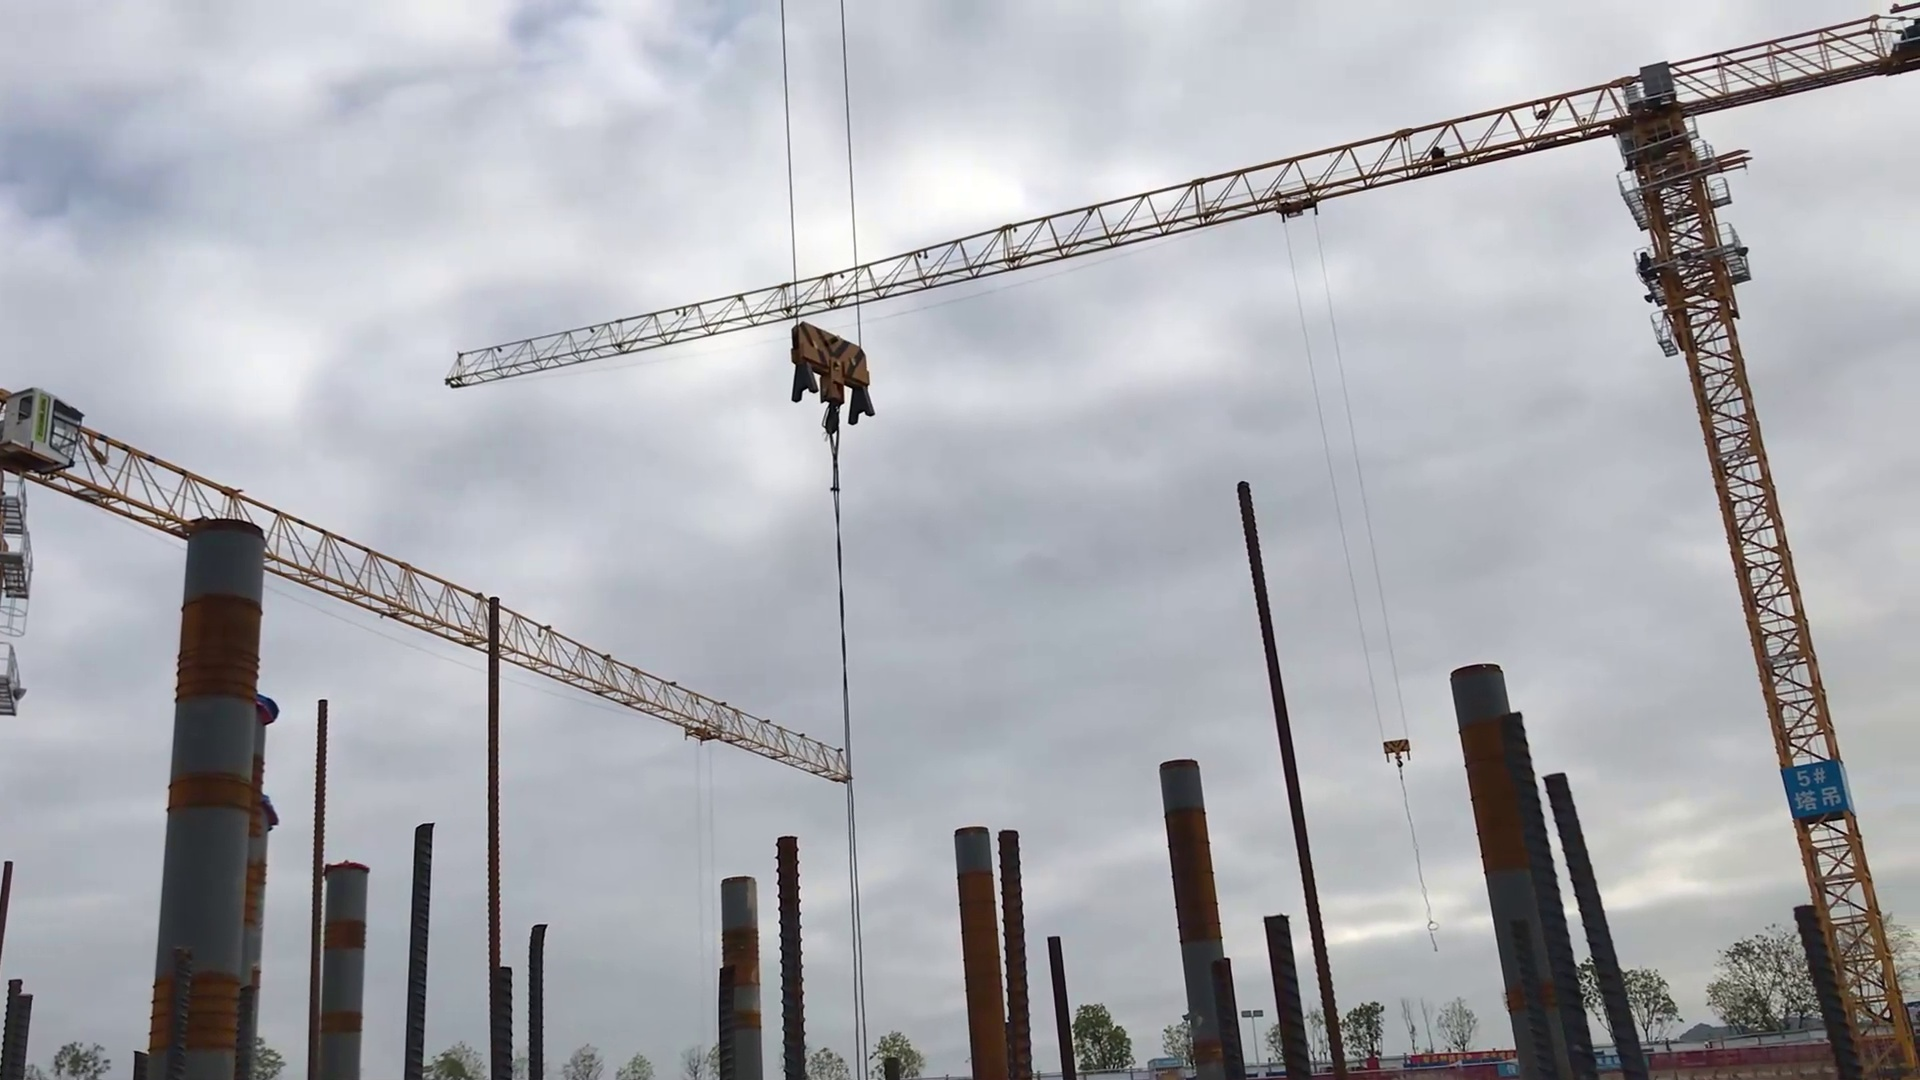fence: (1643, 1021, 1826, 1077)
hook: (785, 316, 885, 446), (1381, 738, 1418, 769)
slogan: (1774, 754, 1865, 836)
